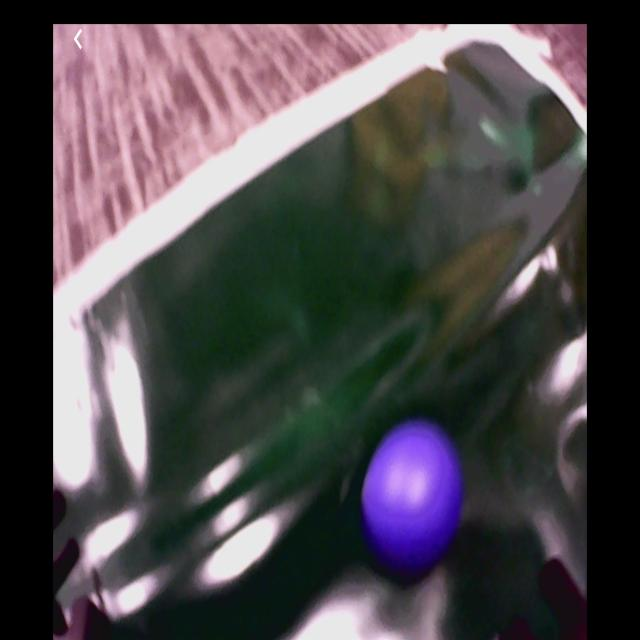ball: (363, 422, 458, 565)
